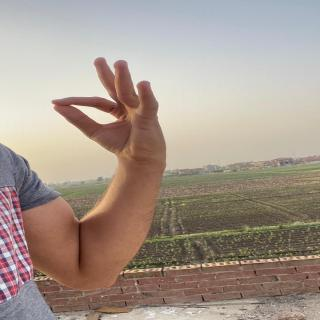Space: (49, 53, 181, 160)
